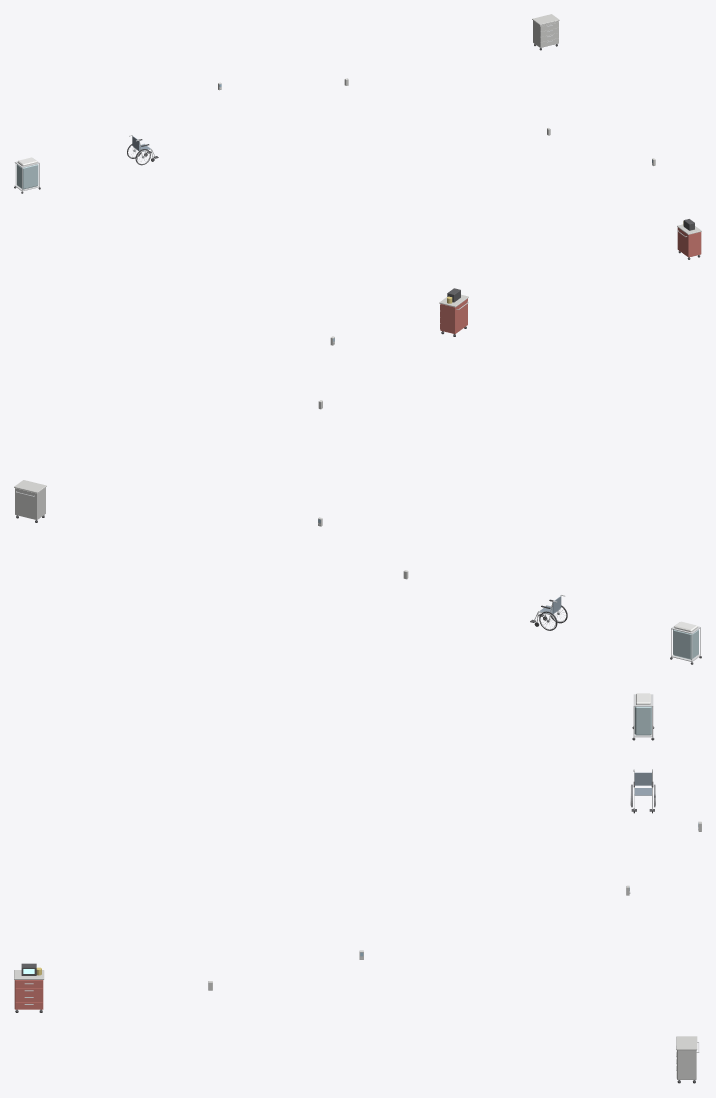
File: corridor_props.glb
3 renders of one model, top to bottom at view 1: azimuth 30°, elevation 25°; view 2: azimuth 150°, elevation 25°; view 3: azimuth 270°, elevation 25°, orthographic. The views are drawn at different scales.
Visible parts, largest first — view 1: corridor_props_cart_w, corridor_props_paint_r, corridor_props_curtain, corridor_props_chrome; view 2: corridor_props_cart_w, corridor_props_paint_r, corridor_props_curtain; view 3: corridor_props_cart_w, corridor_props_paint_r.
Part boxes in pixels (x1,y1,x2,y2): corridor_props_cart_w: (218,14,701,234); corridor_props_paint_r: (677,227,701,257); corridor_props_curtain: (16,164,38,189); corridor_props_chrome: (14,25,687,237); corridor_props_cart_w: (14,294,468,579); corridor_props_paint_r: (440,298,467,333); corridor_props_curtain: (673,629,698,659); corridor_props_cart_w: (14,821,701,1079); corridor_props_paint_r: (14,980,43,1009).
Bounding box in the file's own units: 22.29 × 1.45 × 18.2.
